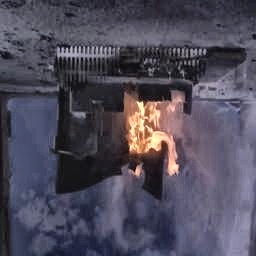fire: (111, 94, 186, 182)
